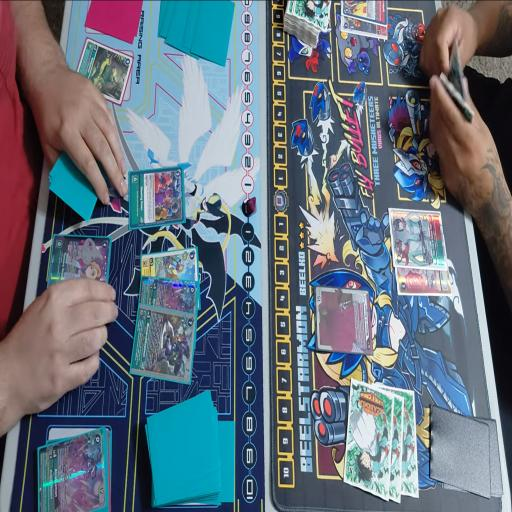card: (130, 282, 196, 384), (38, 427, 111, 512), (44, 232, 114, 302), (121, 165, 190, 234), (313, 285, 373, 356), (79, 40, 134, 108), (389, 209, 447, 270), (140, 276, 198, 312), (141, 247, 199, 280), (395, 267, 451, 296), (342, 0, 386, 27), (341, 15, 387, 39)
